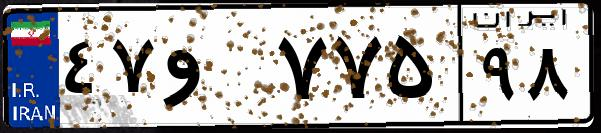4: (57, 26, 110, 100)
5: (385, 28, 445, 110)
7: (270, 28, 330, 110), (330, 28, 385, 110), (110, 28, 158, 98)
8: (525, 38, 570, 115)
9: (475, 38, 525, 113)
و: (158, 20, 270, 120)
